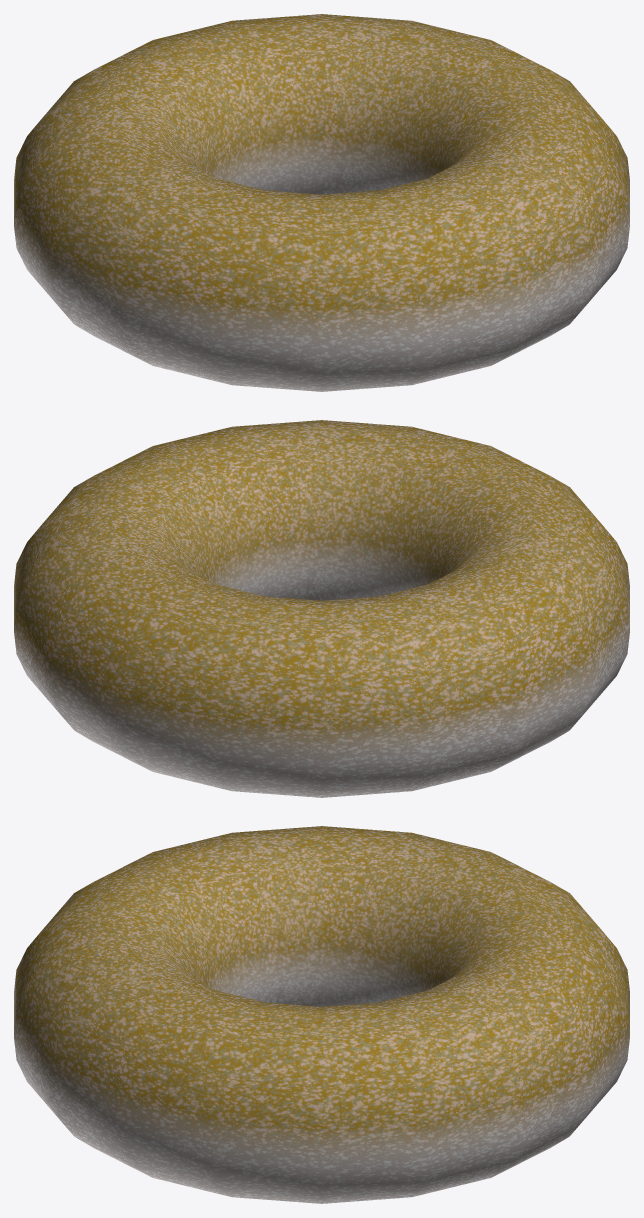
File: Gummy Rosca Dos colores.fbx
3 views of the same model, one above another, from view 1: azimuth 30°, elevation 25°; view 2: azimuth 150°, elevation 25°; view 3: azimuth 270°, elevation 25° (orthographic).
Visible parts, largest first — view 1: Gummy Rosca Dos colores; view 2: Gummy Rosca Dos colores; view 3: Gummy Rosca Dos colores.
Boxes of the visible parts, left/top/right/bottom form: Gummy Rosca Dos colores: left=14, top=14, right=629, bottom=391; Gummy Rosca Dos colores: left=14, top=420, right=629, bottom=797; Gummy Rosca Dos colores: left=14, top=826, right=629, bottom=1203.
Size of the model in its own units: 0.1268 by 0.0401 by 0.1249.
